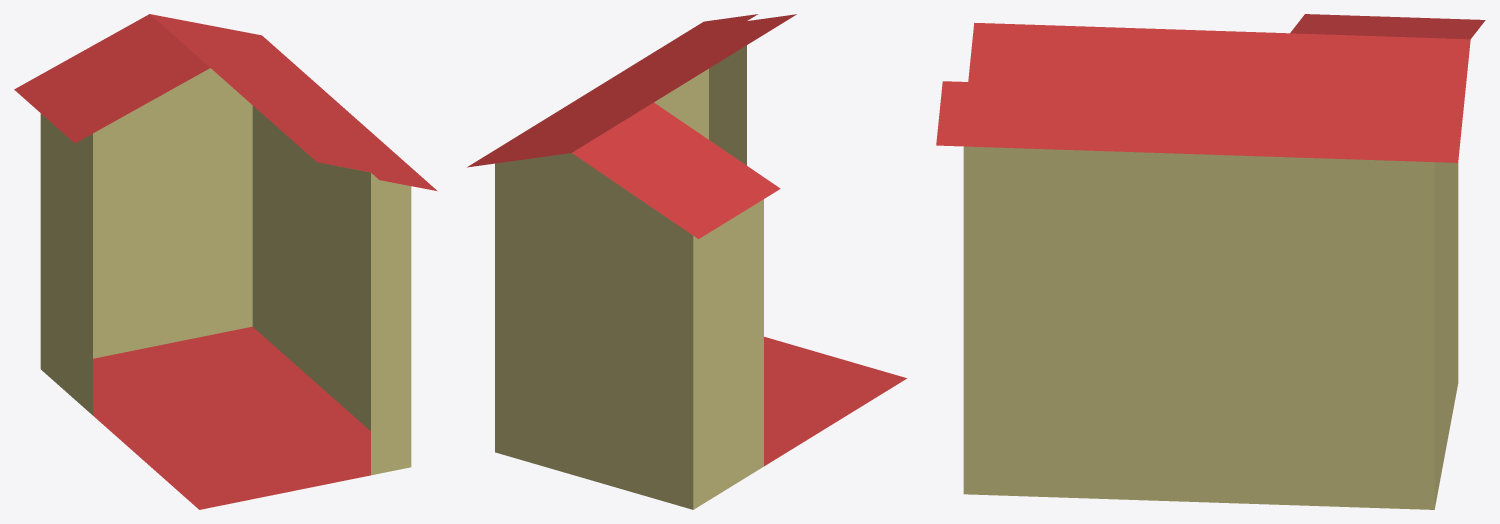
The picture shows the model from 3 angles, left to right: view 1: azimuth 30°, elevation 25°; view 2: azimuth 150°, elevation 25°; view 3: azimuth 270°, elevation 25°; orthographic projection. The views are drawn at different scales.
Bounding box in the file's own units: 7.13 × 10.73 × 8.94.
